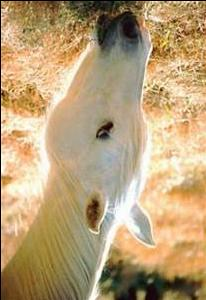horse: (1, 10, 156, 300)
